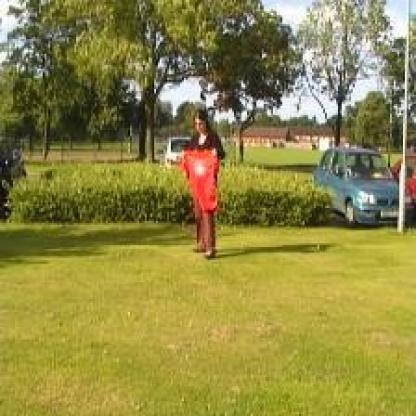other: (174, 145, 221, 209)
